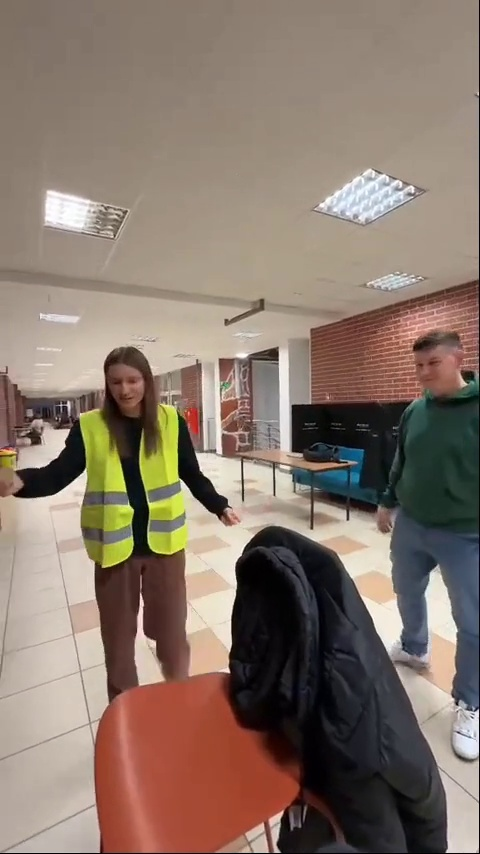no vest: (378, 319, 480, 752)
vest: (66, 347, 241, 694)
